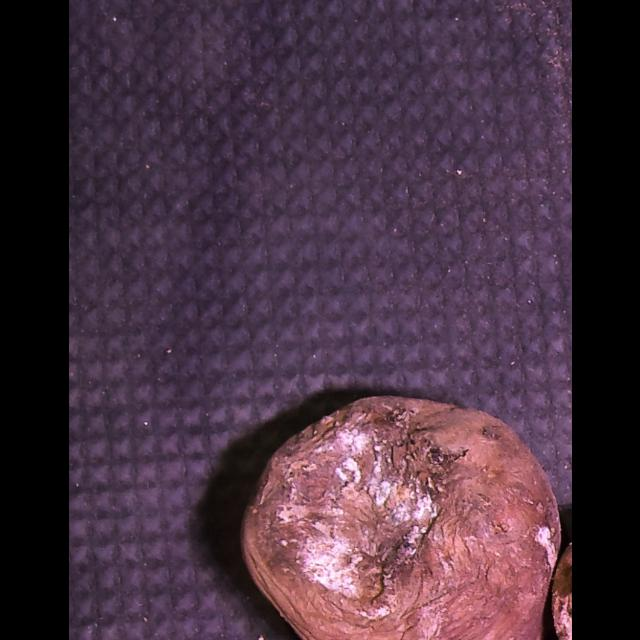Damaged potato: (230, 380, 572, 640)
